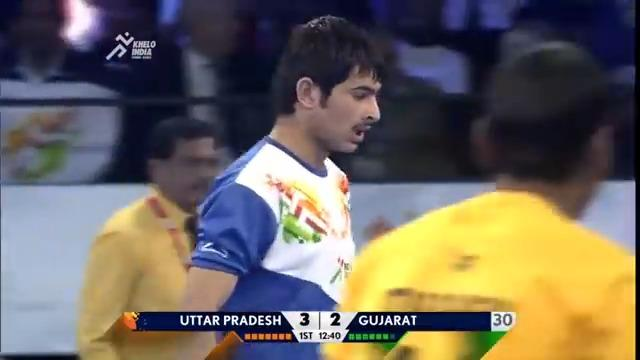Player: (332, 39, 636, 358)
Raider: (178, 14, 385, 358)
referee: (75, 114, 225, 358)
